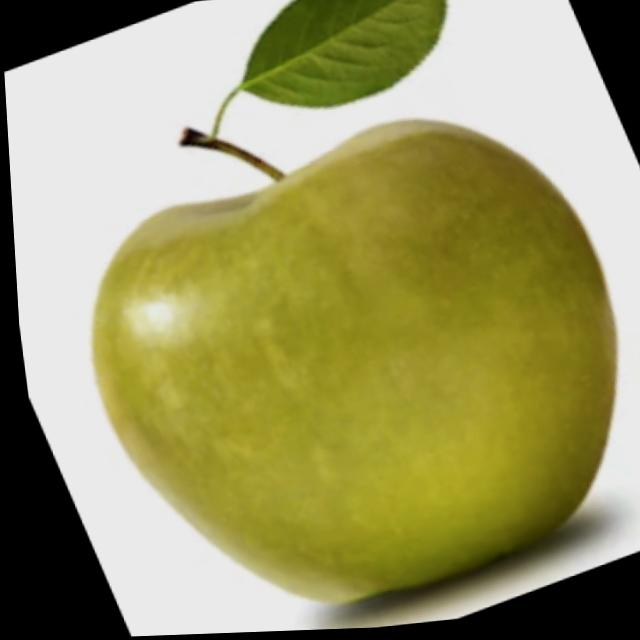organik: (18, 74, 640, 630)
